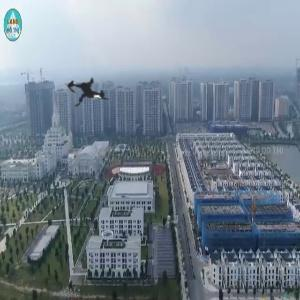drone: (50, 56, 128, 134)
